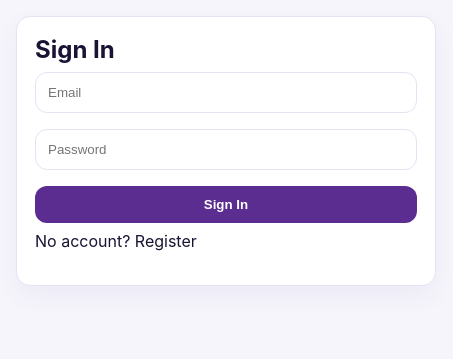
Test case: Login Component › shows validation error for invalid email
This screenshot has width=453, height=359.
In the field with placeholder "Email": (226, 92) [35,72,417,113], type "invalid-email"
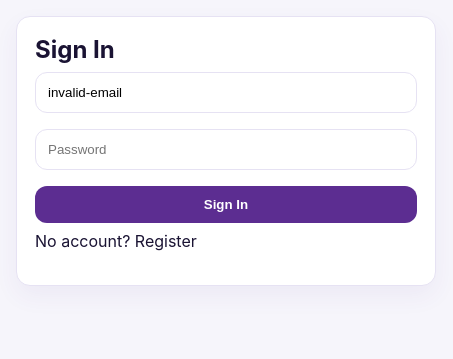
Submit the form with placeholder "Email", box [35,72,417,223]
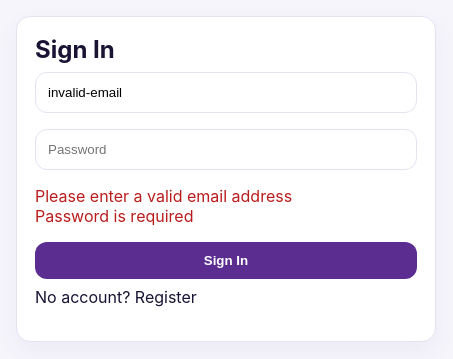
Expected: the text "Please enter a valid email address" is shown, [35,186,292,206]
